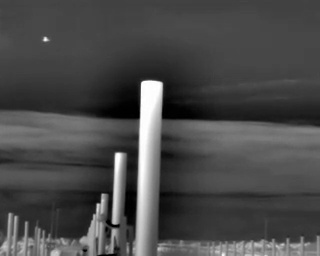BIRD: (40, 34, 52, 46)
